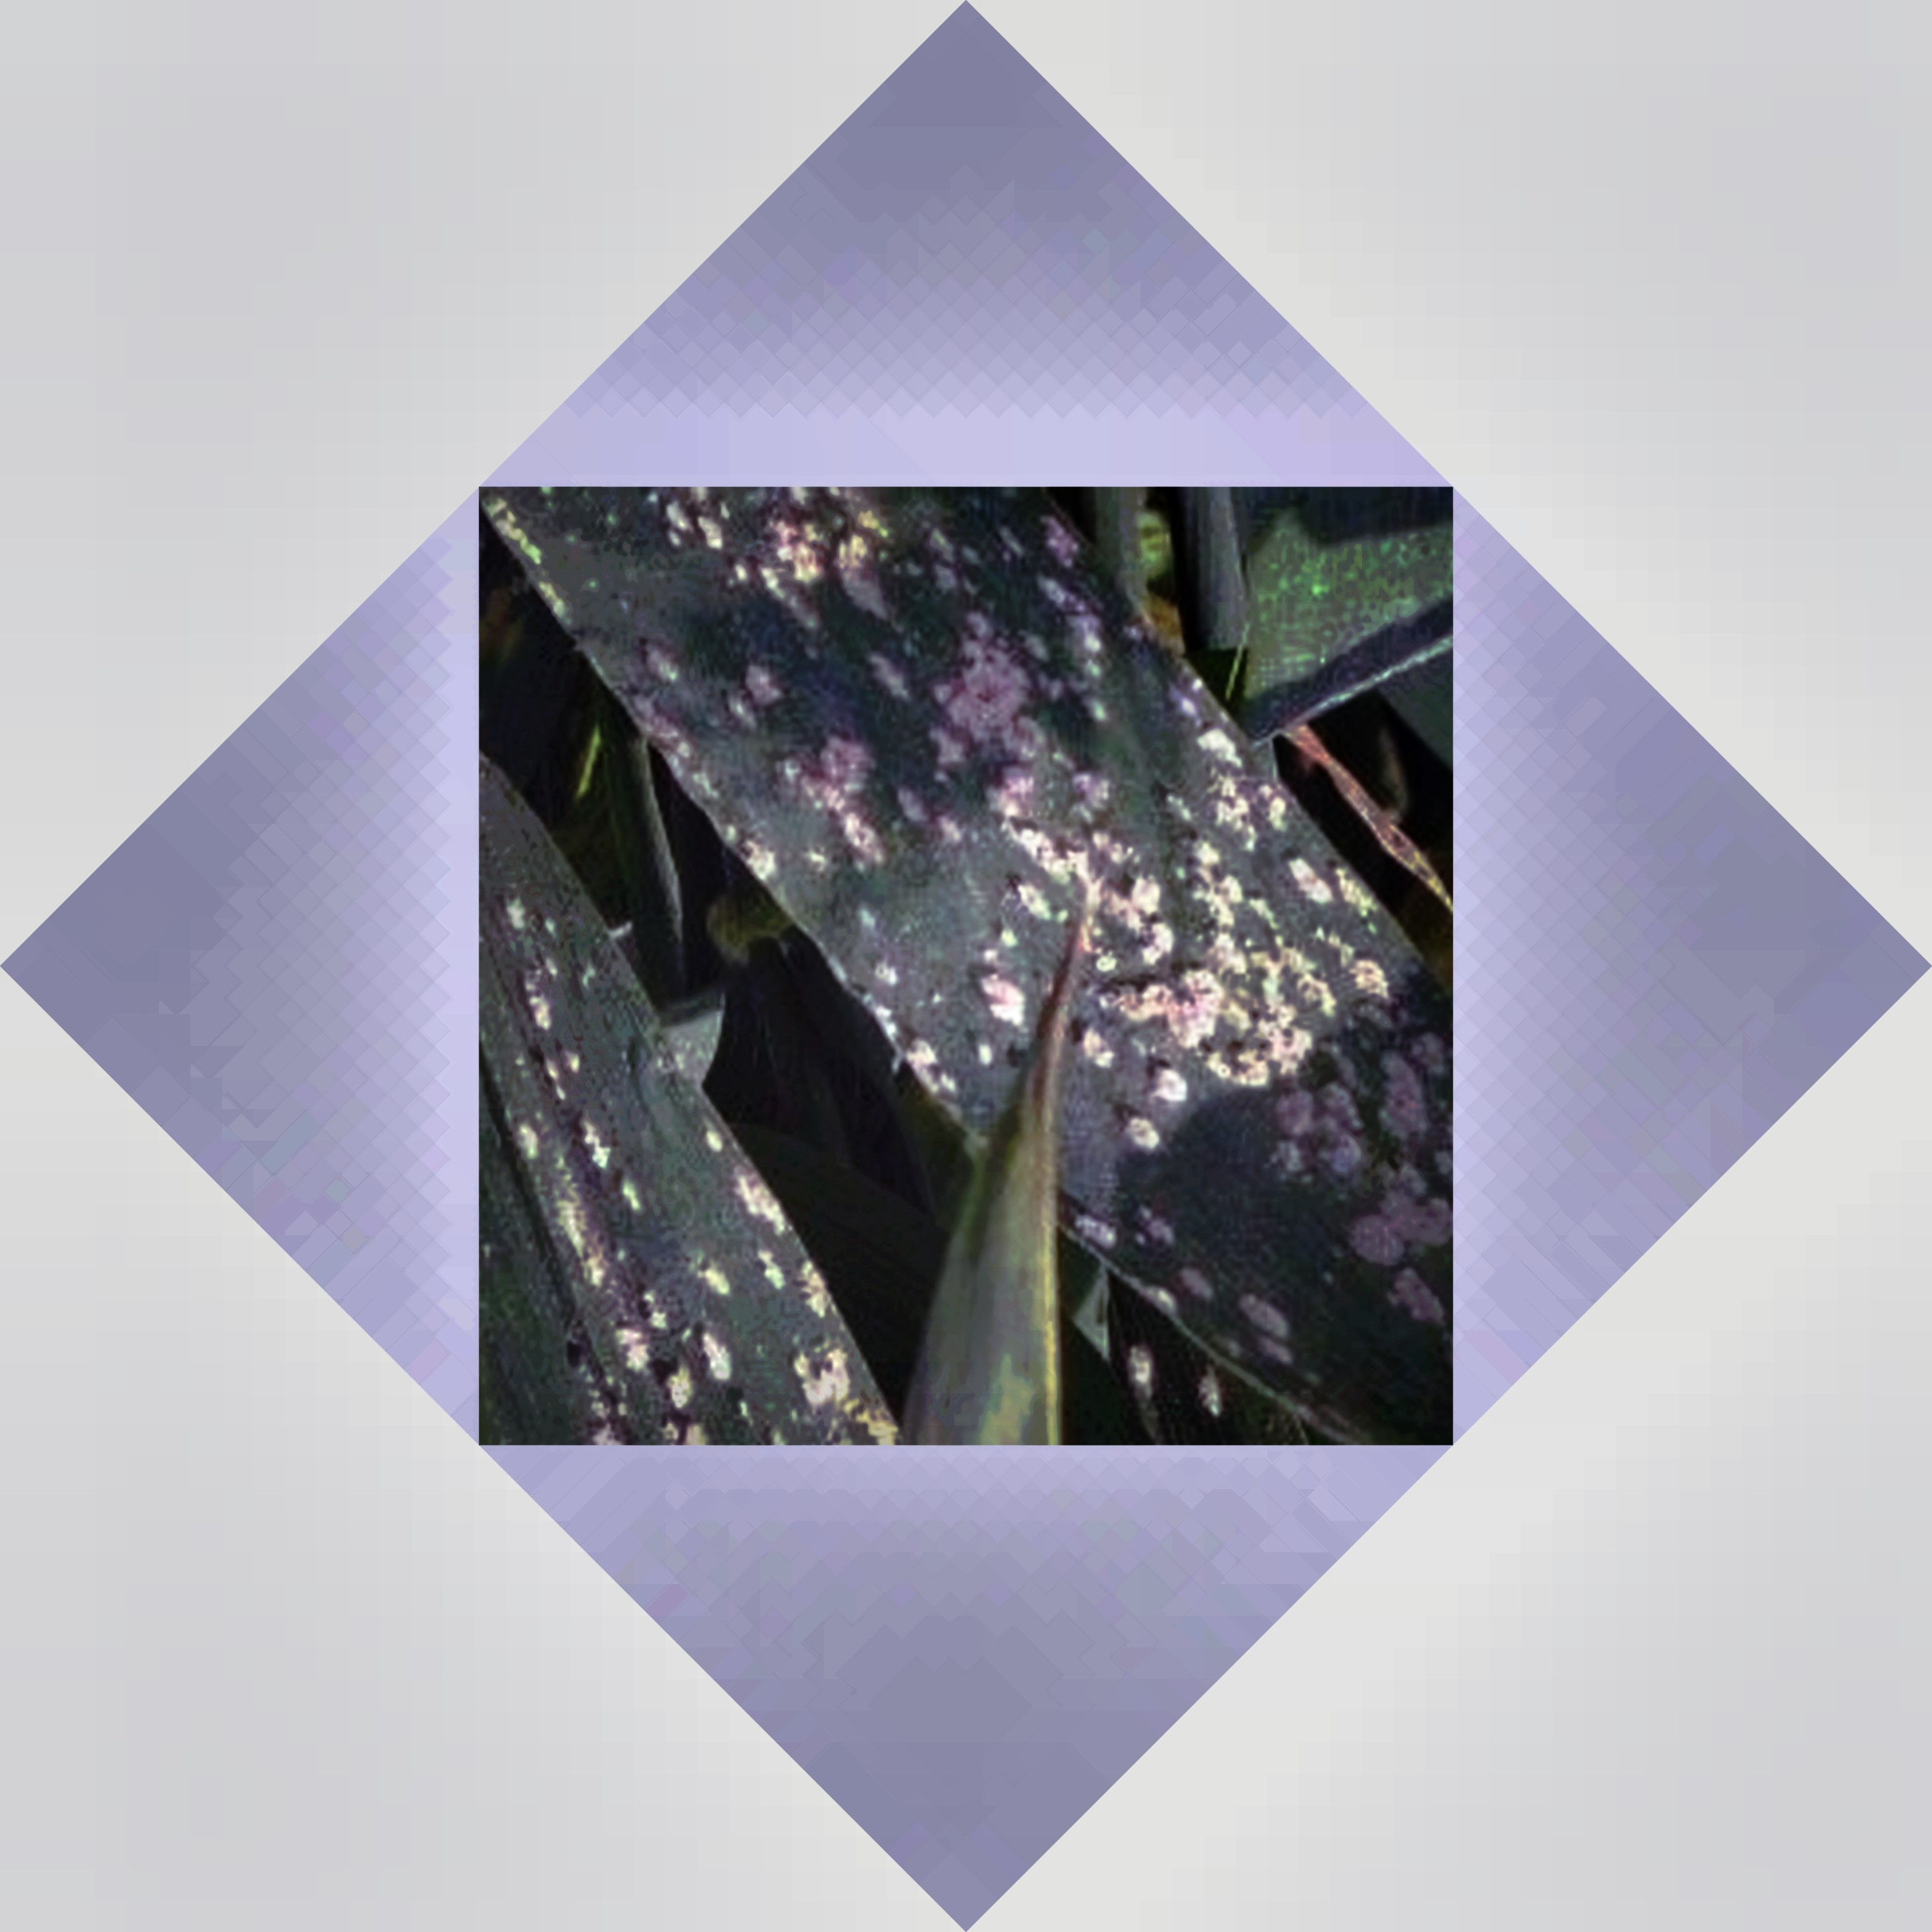Powdery Mildew: (644, 517, 1426, 1306)
